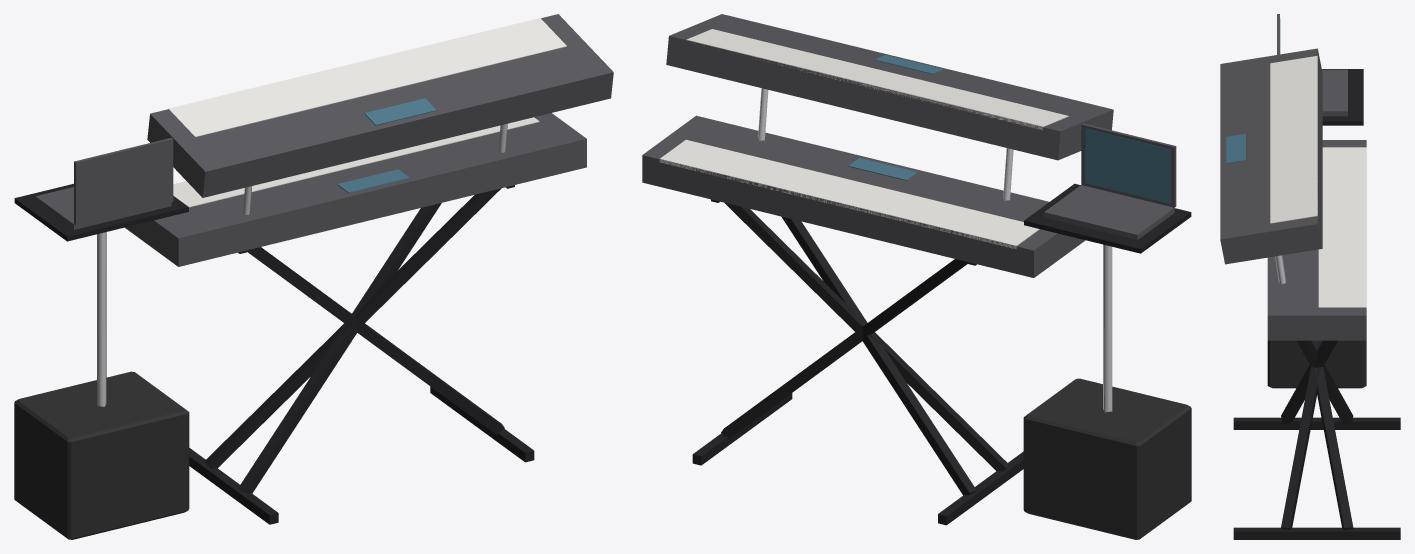
File: synth-88-double-low.glb
The picture shows the model from 3 angles, left to right: view 1: azimuth 30°, elevation 25°; view 2: azimuth 150°, elevation 25°; view 3: azimuth 270°, elevation 25°; orthographic projection. The views are drawn at different scales.
Parts seen in each view (by area): view 1: panel, cabinet, frame, keys, metal, screen; view 2: panel, cabinet, frame, keys, screen, metal; view 3: panel, keys, frame, cabinet, screen.
Boxes of the visible parts, <box> form: panel: <box>35,14,613,266</box>; cabinet: <box>14,371,189,539</box>; frame: <box>14,183,534,524</box>; keys: <box>168,18,566,207</box>; metal: <box>97,123,507,406</box>; screen: <box>337,98,436,193</box>; panel: <box>642,14,1176,277</box>; cabinet: <box>1023,378,1191,539</box>; frame: <box>692,183,1191,525</box>; keys: <box>659,29,1068,248</box>; screen: <box>848,55,1170,203</box>; metal: <box>758,88,1112,412</box>; panel: <box>1220,14,1366,340</box>; keys: <box>1270,55,1366,307</box>; frame: <box>1233,69,1400,539</box>; cabinet: <box>1267,340,1366,388</box>; screen: <box>1226,19,1280,163</box>.
Bounding box in the file's own units: 1.7 × 1.24 × 0.5832.
